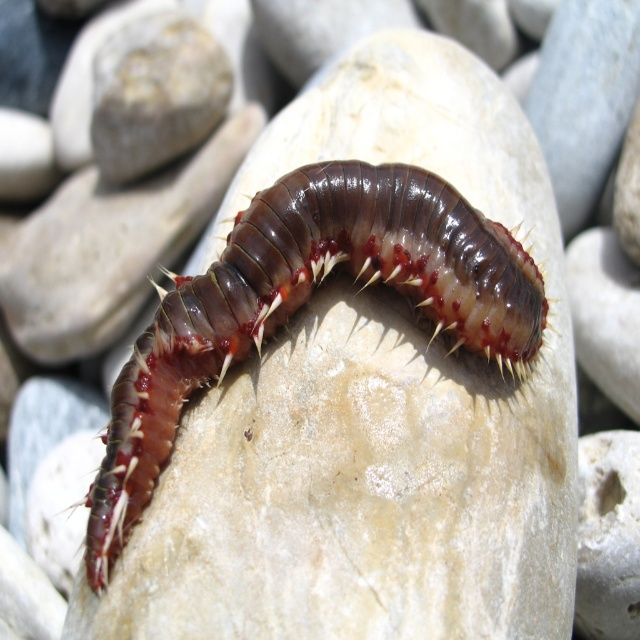Centipede: (58, 157, 561, 595)
